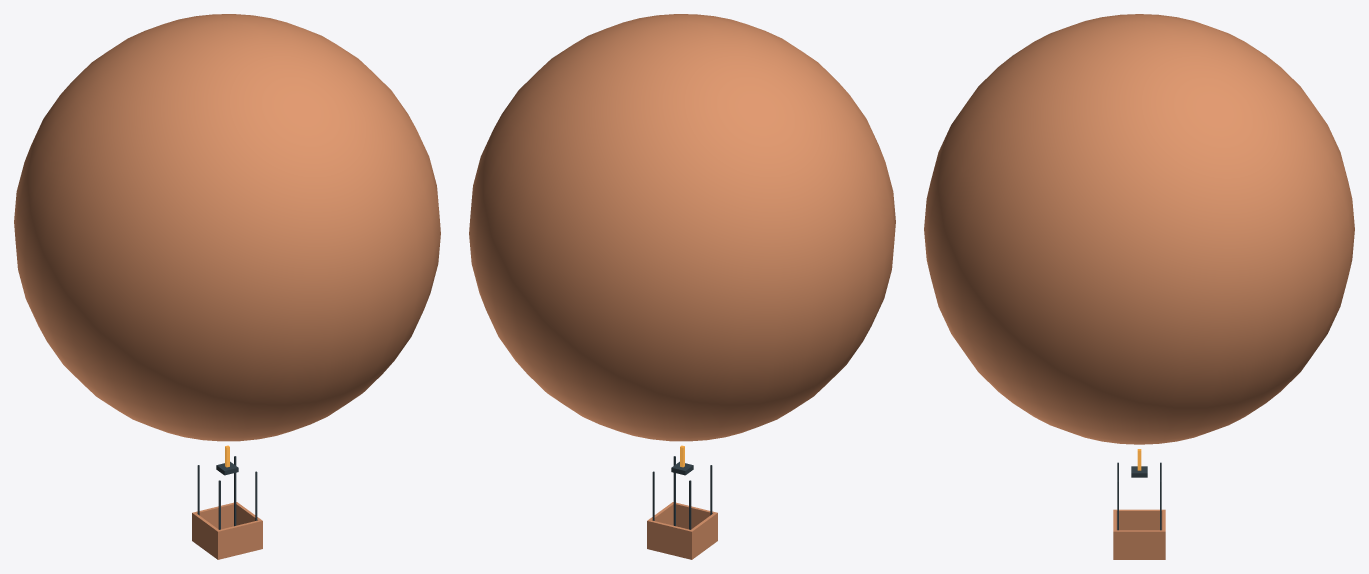
File: balloon.glb
3 views of the same model, side by side, from view 1: azimuth 30°, elevation 25°; view 2: azimuth 150°, elevation 25°; view 3: azimuth 270°, elevation 25° (orthographic).
Visible parts, largest first — view 1: balloon-envelope, basket-wall (×3); view 2: balloon-envelope, basket-wall (×3); view 3: balloon-envelope, basket-wall (×2).
Boxes of the visible parts, x1,y1,x2,y2 form: balloon-envelope: [14, 14, 440, 441]; basket-wall (×3): [192, 502, 259, 555]; balloon-envelope: [469, 14, 895, 441]; basket-wall (×3): [650, 502, 717, 555]; balloon-envelope: [924, 14, 1354, 444]; basket-wall (×2): [1113, 509, 1165, 555].
Size of the model in its own units: 13.2 by 17.4 by 13.2.
